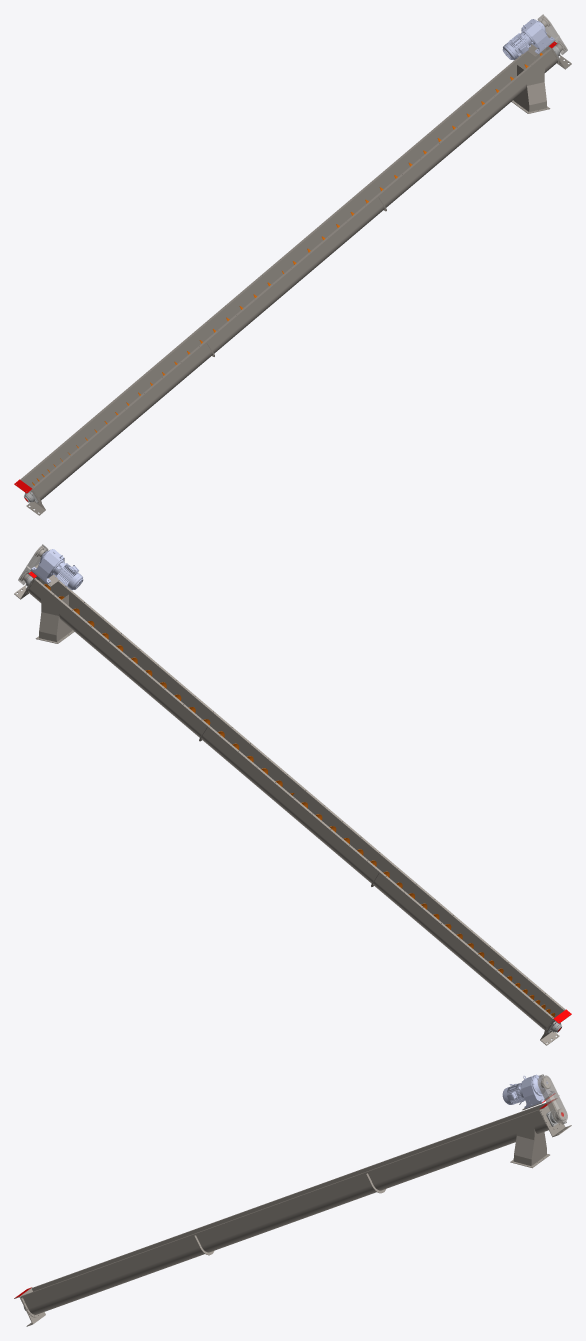
The model's file is assembly-37.glb.
3 renders of one model, top to bottom at view 1: azimuth 30°, elevation 25°; view 2: azimuth 150°, elevation 25°; view 3: azimuth 330°, elevation 25°, orthographic.
Parts seen in each view (by area): view 1: 編號2-9M螺運機.(31度).-1; view 2: 編號2-9M螺運機.(31度).-1; view 3: 編號2-9M螺運機.(31度).-1.
Part boxes in pixels (bbox=[...]): 編號2-9M螺運機.(31度).-1: bbox=[14, 14, 571, 515]; 編號2-9M螺運機.(31度).-1: bbox=[14, 544, 571, 1045]; 編號2-9M螺運機.(31度).-1: bbox=[14, 1074, 571, 1326].
Size of the model in its own units: 8.21 by 5.35 by 0.47.
